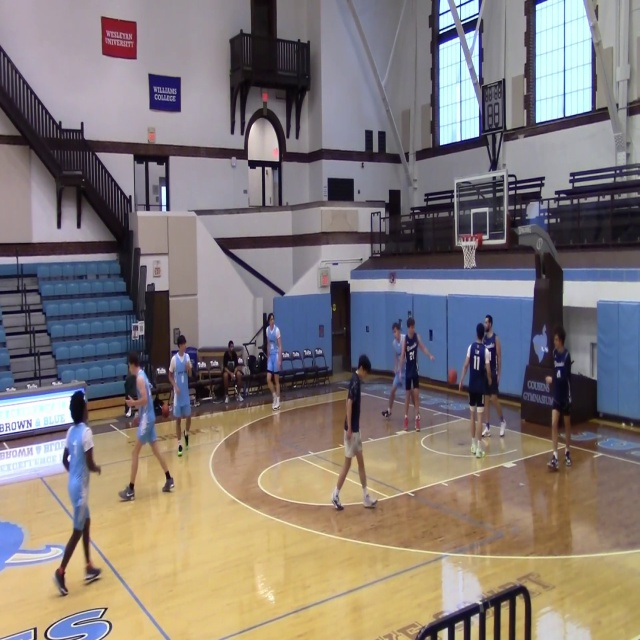Basketball: (447, 368, 457, 385)
